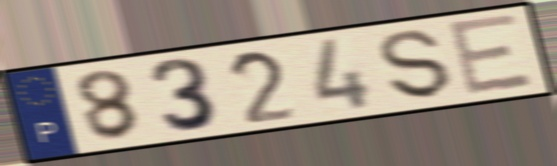2: (226, 48, 299, 127)
3: (147, 56, 223, 134)
4: (309, 36, 377, 114)
8: (73, 68, 145, 143)
E: (443, 11, 538, 100)
S: (376, 28, 456, 102)
